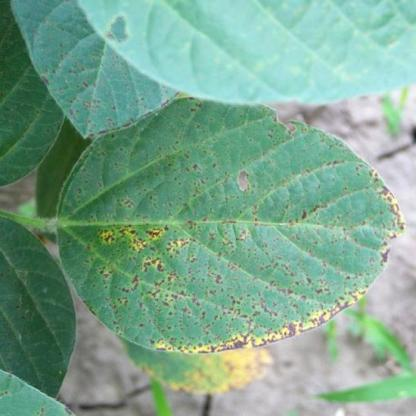Tomato Septoria leaf spot: (50, 106, 414, 356)
